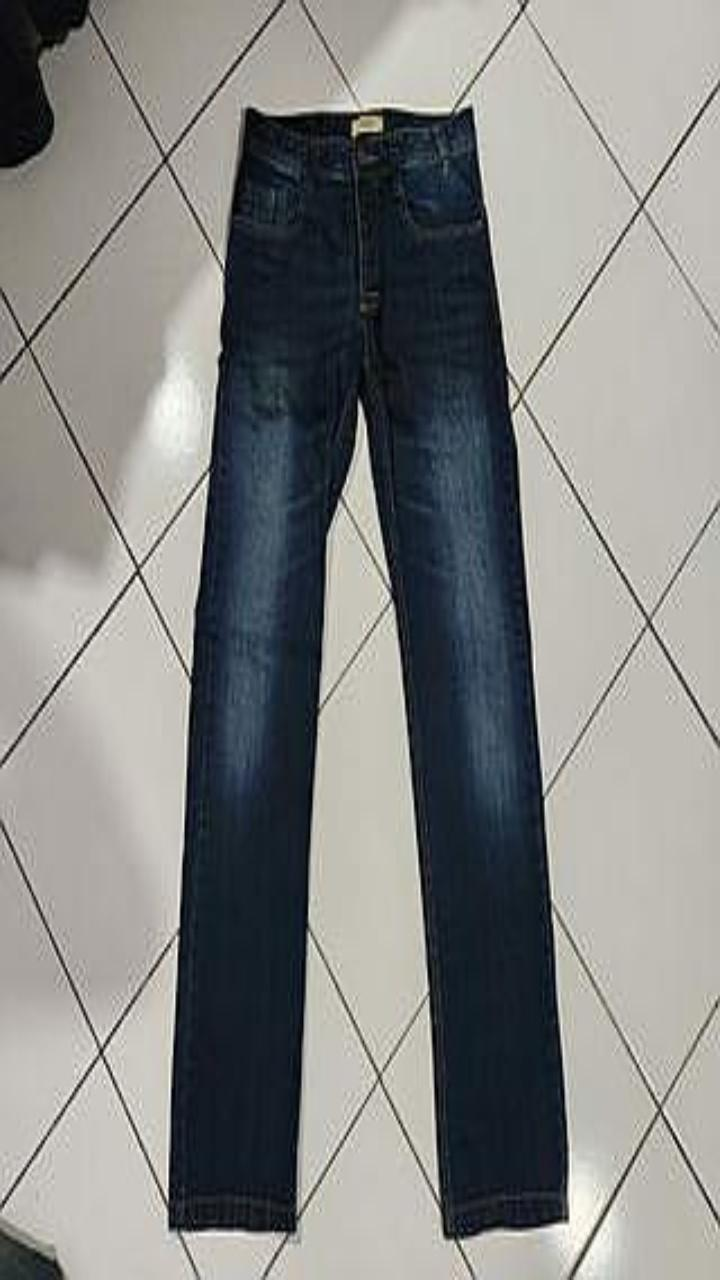Jeans: (169, 107, 567, 1235)
